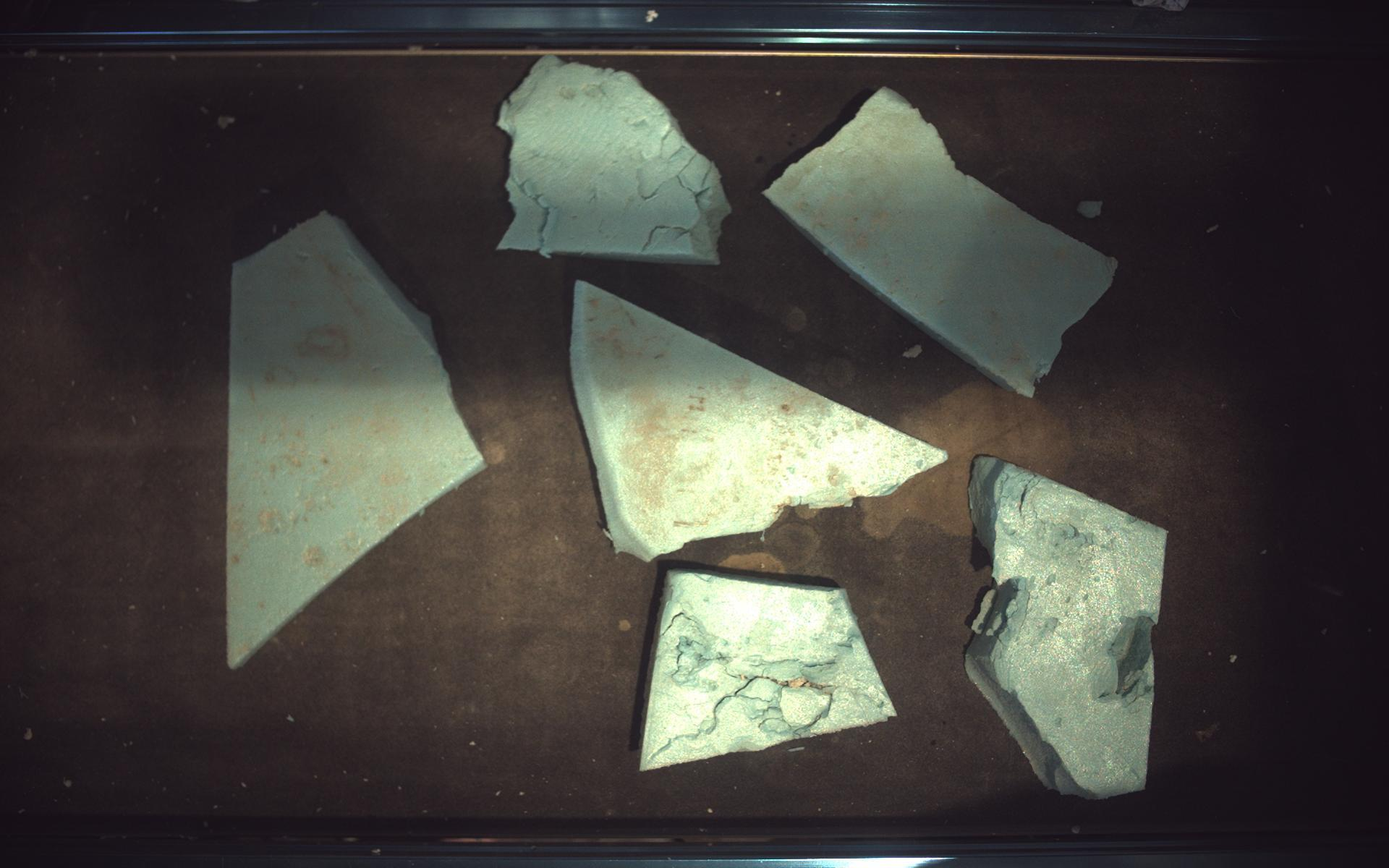foam: (226, 211, 485, 669), (765, 86, 1120, 396), (571, 281, 948, 562), (968, 457, 1170, 800), (641, 569, 897, 773), (498, 54, 731, 263)
